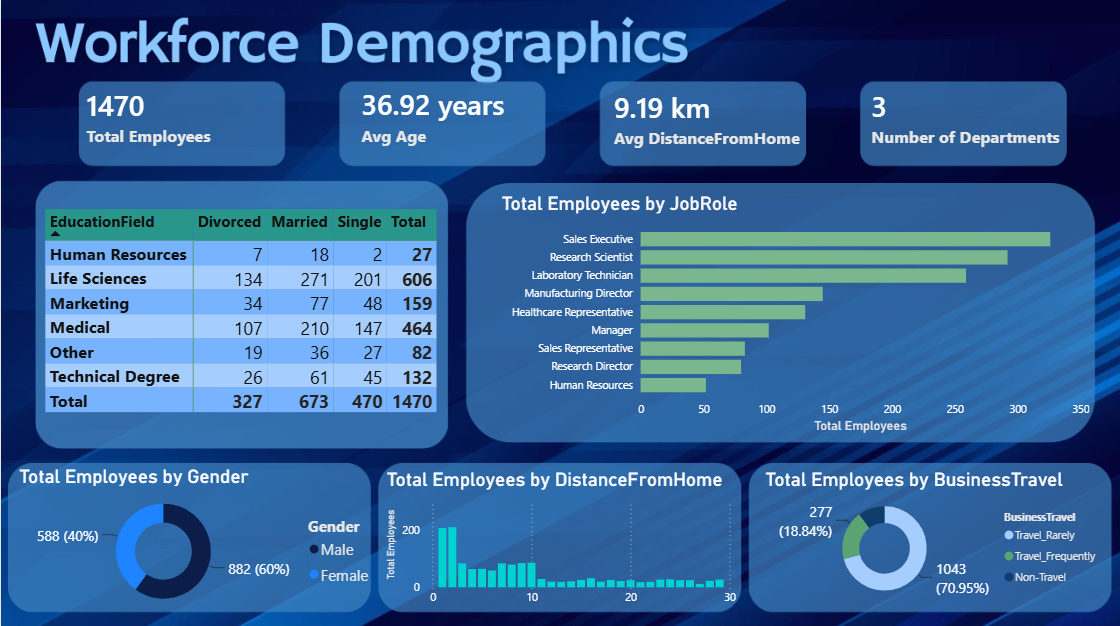

This screenshot's page, from the dashboard's own definition file:
{"tool":"powerbi","page":{"name":"Demographics","canvas":[1280,720],"ordinal":1},"visuals":[{"type":"pivotTable","fields":{"Rows":["ibm_data dim_employee.EducationField"],"Columns":["ibm_data dim_employee.MaritalStatus"],"Values":["ibm_data dim_employee.Total Employees"]},"box":[46,234,490,298],"z":0},{"type":"cardVisual","fields":{"Data":["ibm_data dim_employee.Avg Age"]},"box":[383.3,63.3,368.3,138.3],"z":1000},{"type":"cardVisual","fields":{"Data":["ibm_data dim_employee.Total Employees"]},"box":[68.3,70,315,125],"z":2000},{"type":"cardVisual","fields":{"Data":["Avg(ibm_data dim_job_role.DistanceFromHome)"]},"box":[671.7,65,310,138.3],"z":3000},{"type":"cardVisual","fields":{"Data":["Count(ibm_data dim_job_role.Department)"]},"box":[965,58.3,283.3,150],"z":4000},{"type":"clusteredBarChart","fields":{"Category":["ibm_data dim_job_role.JobRole"],"Y":["ibm_data dim_employee.Total Employees"]},"box":[566.7,220,681.7,280],"z":5000},{"type":"donutChart","fields":{"Category":["ibm_data dim_employee.Gender"],"Y":["ibm_data dim_employee.Total Employees"]},"box":[15,531.7,420,173.3],"z":6000},{"type":"clusteredColumnChart","fields":{"Category":["ibm_data dim_job_role.DistanceFromHome"],"Y":["ibm_data dim_employee.Total Employees"]},"box":[435.7,535.7,410,165.7],"z":7000},{"type":"donutChart","fields":{"Category":["ibm_data dim_job_role.BusinessTravel"],"Y":["ibm_data dim_employee.Total Employees"]},"box":[868.3,535,396.7,158.3],"z":8000}]}

Visuals, with their boxes in screenshot pixels (x1, y1, x2, y2), scaled from the page's 1280x720 canvas onto the 1120x626 screenshot:
pivotTable - ibm_data dim_employee.EducationField x ibm_data dim_employee.MaritalStatus: region(40, 203, 469, 463)
cardVisual - ibm_data dim_employee.Avg Age: region(335, 55, 658, 175)
cardVisual - ibm_data dim_employee.Total Employees: region(60, 61, 335, 170)
cardVisual - Avg(ibm_data dim_job_role.DistanceFromHome): region(588, 57, 859, 177)
cardVisual - Count(ibm_data dim_job_role.Department): region(844, 51, 1092, 181)
clusteredBarChart - ibm_data dim_job_role.JobRole x ibm_data dim_employee.Total Employees: region(496, 191, 1092, 435)
donutChart - ibm_data dim_employee.Gender x ibm_data dim_employee.Total Employees: region(13, 462, 381, 613)
clusteredColumnChart - ibm_data dim_job_role.DistanceFromHome x ibm_data dim_employee.Total Employees: region(381, 466, 740, 610)
donutChart - ibm_data dim_job_role.BusinessTravel x ibm_data dim_employee.Total Employees: region(760, 465, 1107, 603)
